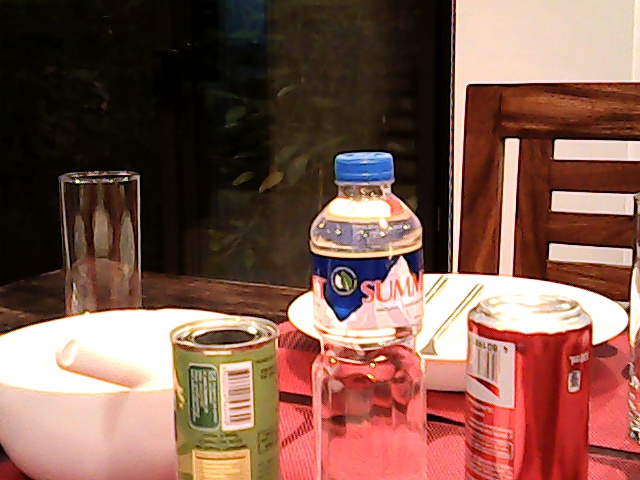Cola: (465, 294, 589, 480)
Pine Juice: (169, 318, 281, 480)
Summit Water: (306, 151, 437, 480)
